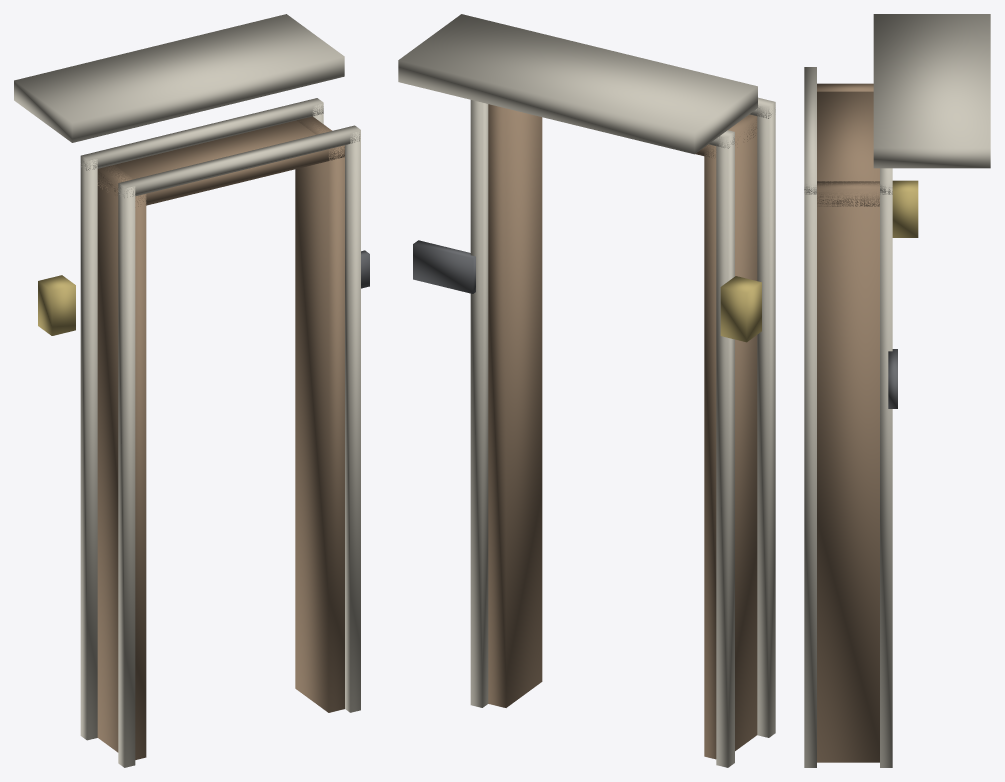
Rendered from doorway_motel_w76_h220_d24.glb.
The picture shows the model from 3 angles, left to right: view 1: azimuth 30°, elevation 25°; view 2: azimuth 150°, elevation 25°; view 3: azimuth 270°, elevation 25°; orthographic projection. The views are drawn at different scales.
Visible parts, largest first — view 1: world; view 2: world; view 3: world.
Boxes of the visible parts, box(x1,y1,x2,y2) form: world: box(14, 14, 369, 767); world: box(398, 14, 775, 767); world: box(804, 14, 990, 767).
Bounding box in the file's own units: 1.32 × 2.49 × 0.6682.
